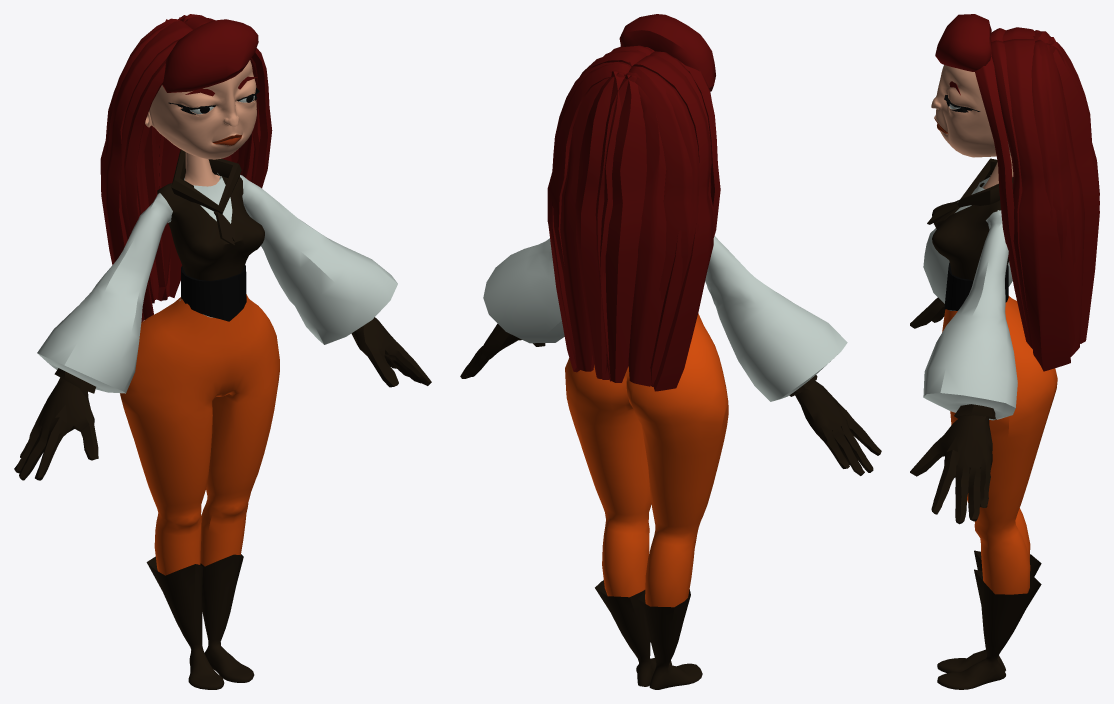
Rendered from VictorianCharacter.obj.
3 views of the same model, side by side, from view 1: azimuth 30°, elevation 25°; view 2: azimuth 150°, elevation 25°; view 3: azimuth 270°, elevation 25° (orthographic).
Parts seen in each view (by area): view 1: pCube20; view 2: pCube20; view 3: pCube20.
Boxes of the visible parts, x1=… form: pCube20: x1=14, y1=14, x2=431, y2=689; pCube20: x1=460, y1=14, x2=881, y2=689; pCube20: x1=910, y1=14, x2=1099, y2=689.
Bounding box in the file's own units: 25.02 × 38.64 × 10.08.
